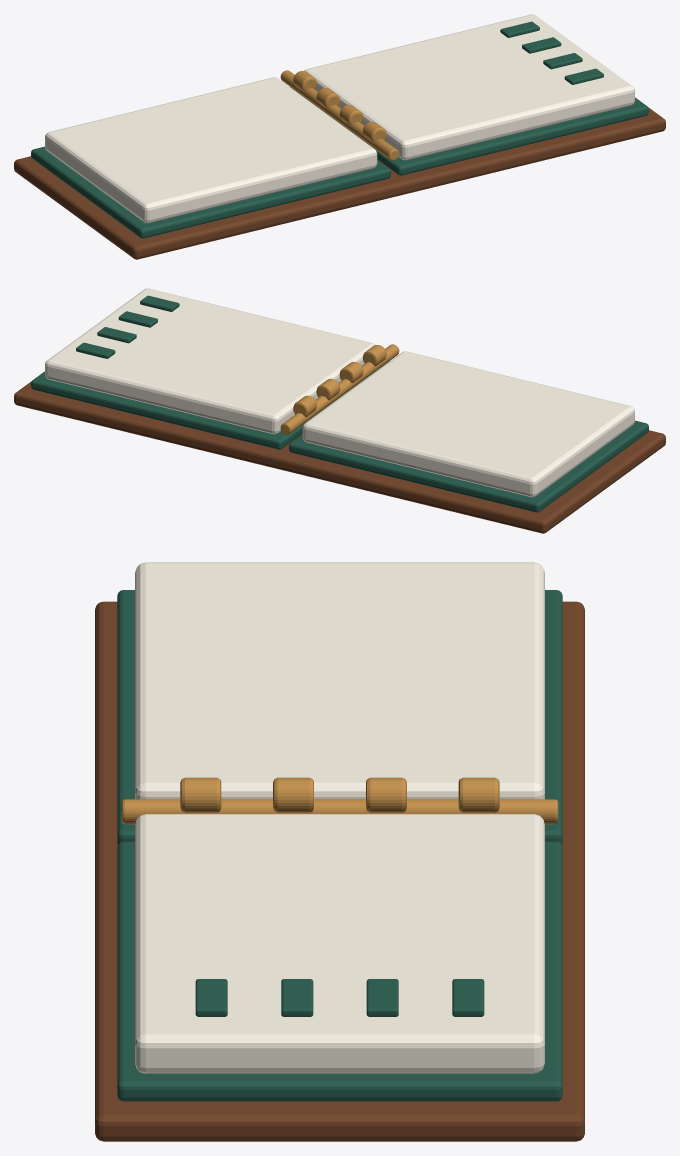
The model's file is hybrid-archive-planner-open.glb.
The picture shows the model from 3 angles, top to bottom: view 1: azimuth 30°, elevation 25°; view 2: azimuth 150°, elevation 25°; view 3: azimuth 270°, elevation 25°; orthographic projection. The views are drawn at different scales.
Visible parts, largest first — view 1: Left page block, Right page block, Walnut desk base, Left leather cover, Right leather cover, Brass spine, Emerald page tab 3, Emerald page tab 4, Emerald page tab 2, Emerald page tab 1, Spine ring 2; view 2: Left page block, Right page block, Walnut desk base, Left leather cover, Right leather cover, Brass spine, Emerald page tab 1, Emerald page tab 2, Emerald page tab 3, Emerald page tab 4, Spine ring 3; view 3: Right page block, Left page block, Walnut desk base, Right leather cover, Left leather cover, Brass spine, Spine ring 1, Spine ring 4, Spine ring 2, Spine ring 3, Emerald page tab 1, Emerald page tab 4 (+2 smaller).
Boxes of the visible parts, bbox=[...] form: Left page block: bbox=[45, 77, 377, 223]; Right page block: bbox=[304, 14, 634, 160]; Walnut desk base: bbox=[14, 107, 665, 259]; Left leather cover: bbox=[31, 146, 390, 238]; Right leather cover: bbox=[290, 87, 648, 175]; Brass spine: bbox=[280, 70, 399, 160]; Emerald page tab 3: bbox=[522, 37, 561, 53]; Emerald page tab 4: bbox=[500, 21, 539, 37]; Emerald page tab 2: bbox=[543, 53, 582, 69]; Emerald page tab 1: bbox=[564, 68, 603, 84]; Spine ring 2: bbox=[339, 104, 363, 126]; Left page block: bbox=[302, 351, 634, 497]; Right page block: bbox=[45, 288, 375, 434]; Walnut desk base: bbox=[14, 381, 665, 533]; Left leather cover: bbox=[289, 420, 648, 512]; Right leather cover: bbox=[31, 361, 389, 449]; Brass spine: bbox=[280, 344, 399, 434]; Emerald page tab 1: bbox=[140, 295, 179, 311]; Emerald page tab 2: bbox=[118, 311, 157, 327]; Emerald page tab 3: bbox=[97, 327, 136, 343]; Emerald page tab 4: bbox=[76, 342, 115, 358]; Spine ring 3: bbox=[316, 378, 340, 400]; Right page block: bbox=[135, 814, 544, 1073]; Left page block: bbox=[135, 562, 544, 799]; Walnut desk base: bbox=[95, 601, 584, 1141]; Right leather cover: bbox=[117, 841, 562, 1101]; Left leather cover: bbox=[117, 590, 562, 845]; Brass spine: bbox=[121, 799, 558, 824]; Spine ring 1: bbox=[180, 777, 221, 812]; Spine ring 4: bbox=[458, 777, 499, 812]; Spine ring 2: bbox=[273, 777, 313, 812]; Spine ring 3: bbox=[366, 777, 406, 812]; Emerald page tab 1: bbox=[195, 979, 227, 1016]; Emerald page tab 4: bbox=[452, 979, 484, 1016].
Size of the model in its own units: 6.9 by 0.65 by 2.75.
